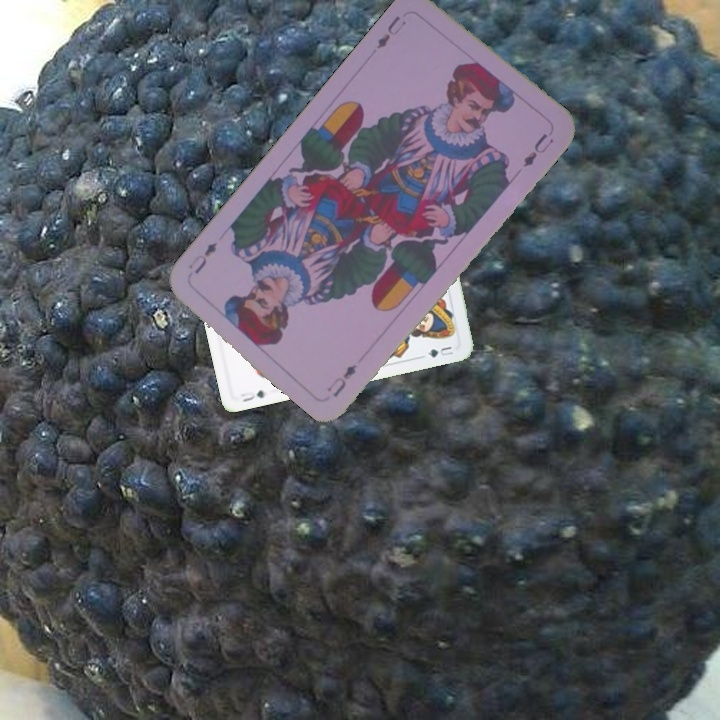EU: (322, 360, 360, 401), (372, 11, 409, 52)
GU: (237, 386, 268, 404)
